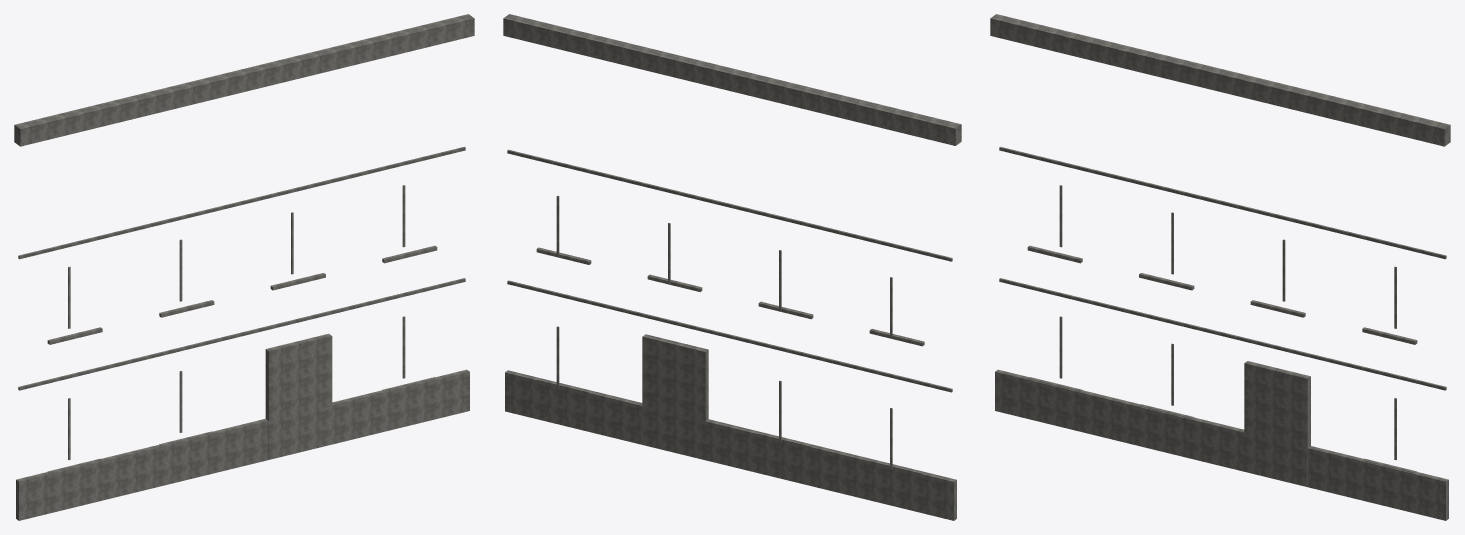
Rendered from Street_BlockL2_Trim.obj.
3 views of the same model, side by side, from view 1: azimuth 30°, elevation 25°; view 2: azimuth 150°, elevation 25°; view 3: azimuth 330°, elevation 25° (orthographic).
Bounding box in the file's own units: 11.4 × 9.46 × 0.485.
Materials: 1 (1 with a texture image).
